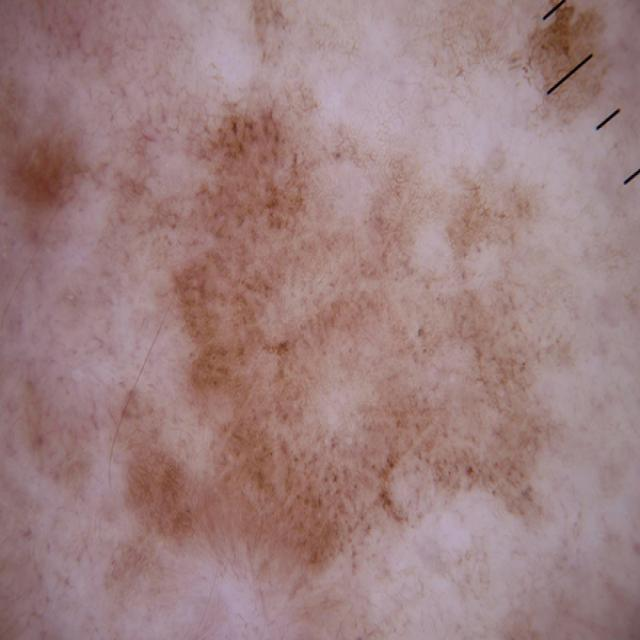Skin-Cancer Pigmented benign keratosis: (10, 9, 624, 626)
